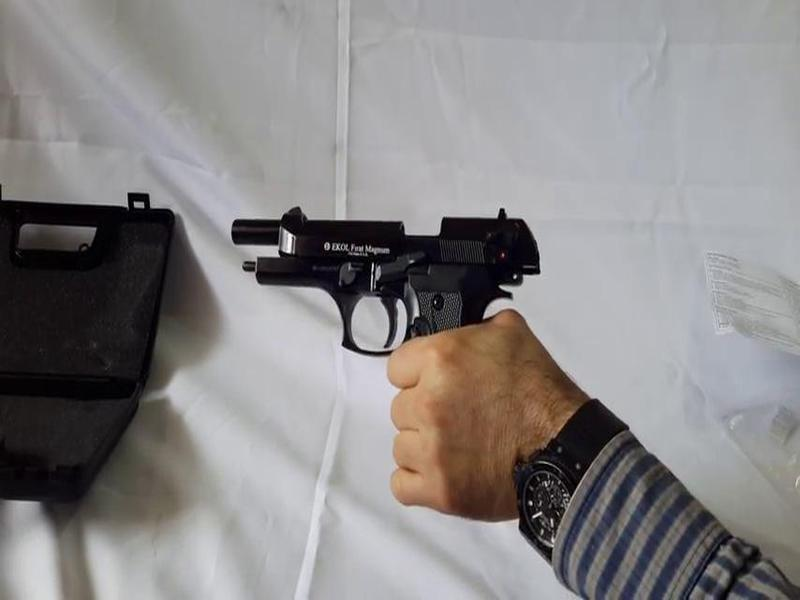Pistola: (202, 195, 530, 381)
